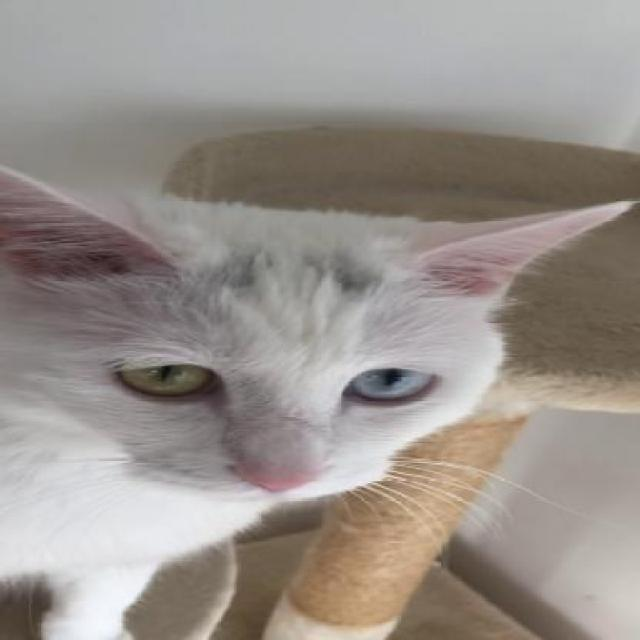cat-face: (1, 163, 507, 500)
